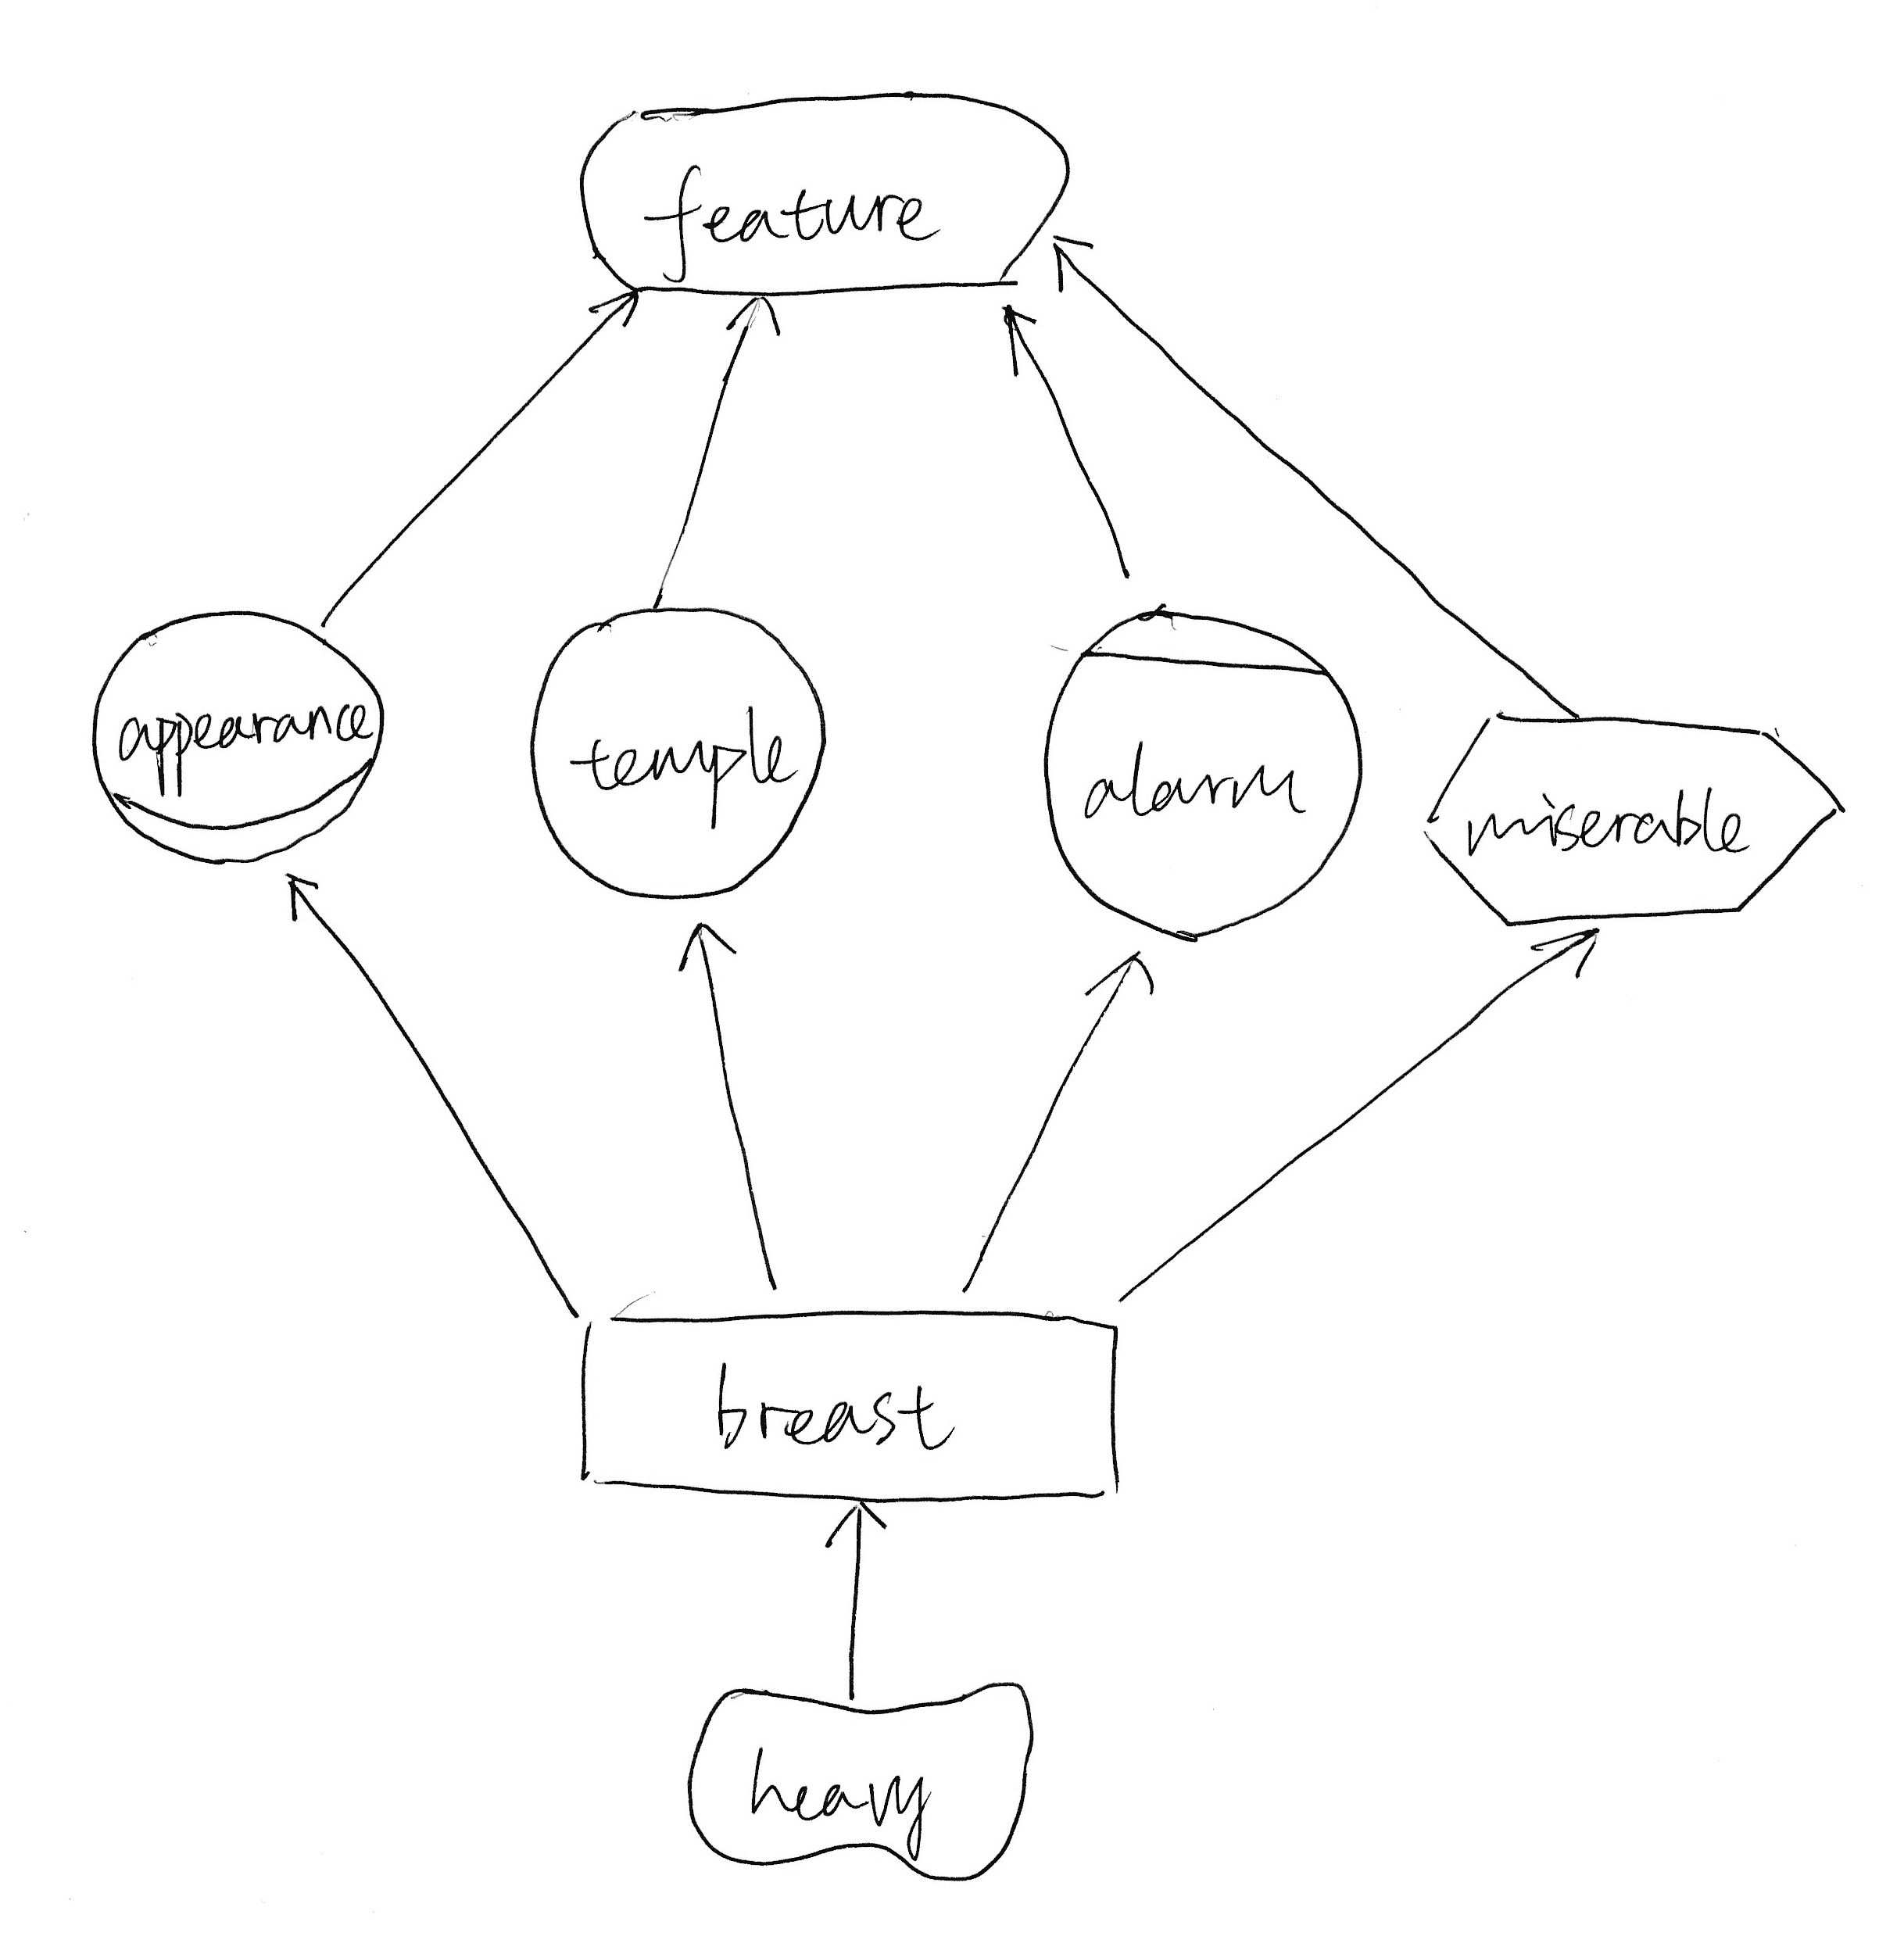actor: (517, 579, 843, 912)
agent: (1030, 590, 1375, 953)
arrow: (1072, 940, 1176, 1021), (658, 907, 754, 991), (1522, 916, 1613, 994), (983, 291, 1054, 384), (817, 1499, 902, 1570), (581, 277, 663, 347), (712, 288, 794, 358), (1040, 220, 1103, 311), (262, 858, 333, 930)
goal: (553, 79, 1080, 307)
quality: (675, 1663, 1051, 1902)
resource: (564, 1291, 1154, 1523)
role: (70, 590, 401, 881)
task: (1403, 691, 1855, 930)
